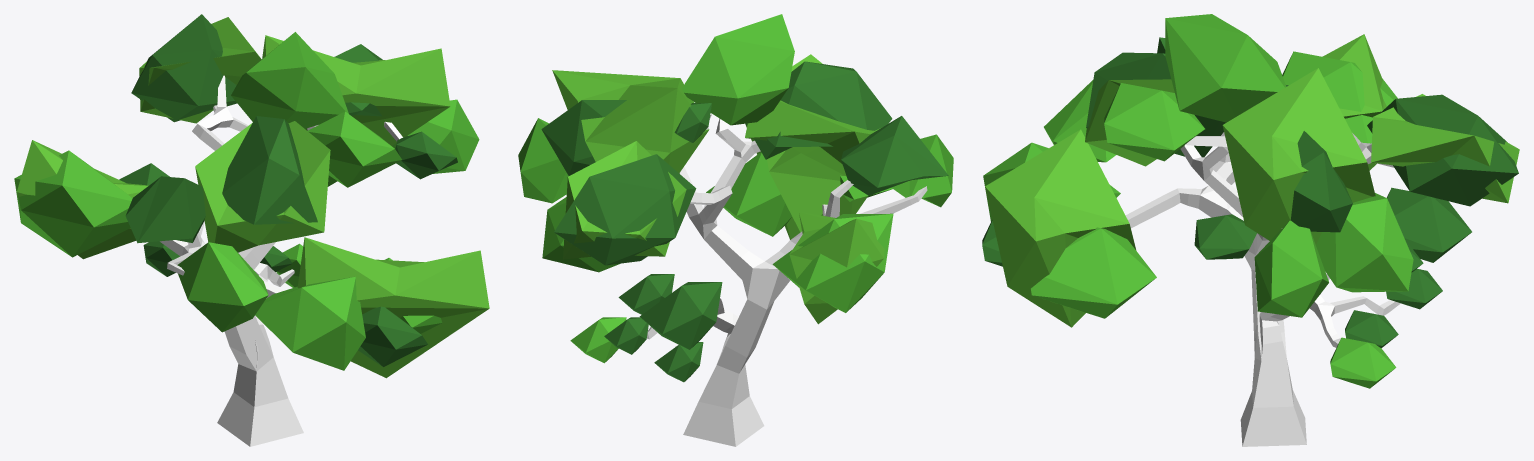
Rendered from tree.glb.
The picture shows the model from 3 angles, left to right: view 1: azimuth 30°, elevation 25°; view 2: azimuth 150°, elevation 25°; view 3: azimuth 270°, elevation 25°; orthographic projection. The views are drawn at different scales.
Parts seen in each view (by area): view 1: tree4leaves, tree4trunk; view 2: tree4leaves, tree4trunk; view 3: tree4leaves, tree4trunk.
Boxes of the visible parts, x1,y1,x2,y2 form: tree4leaves: (14, 14, 489, 378); tree4trunk: (160, 75, 402, 446); tree4leaves: (518, 14, 953, 382); tree4trunk: (646, 113, 927, 446); tree4leaves: (982, 14, 1519, 388); tree4trunk: (1125, 132, 1400, 446).
Bounding box in the file's own units: 8.76 × 7.94 × 9.42.
